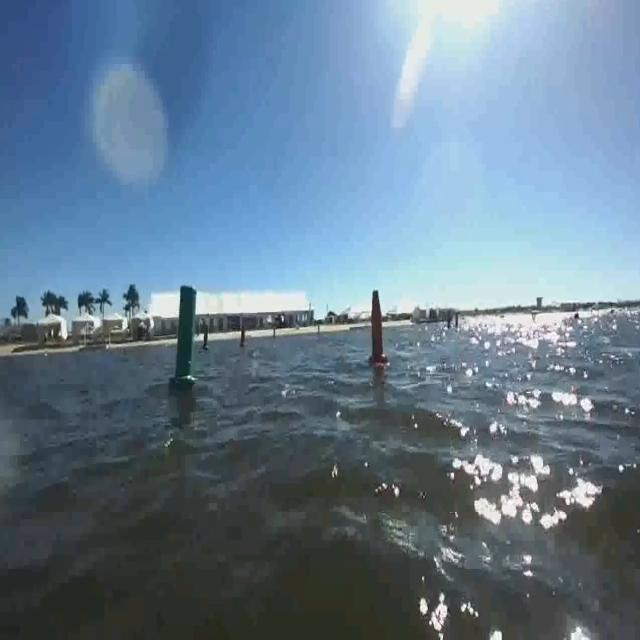green-column-buoy: (169, 284, 199, 388), (202, 323, 211, 352)
red-column-buoy: (368, 287, 389, 366), (240, 326, 248, 348)
